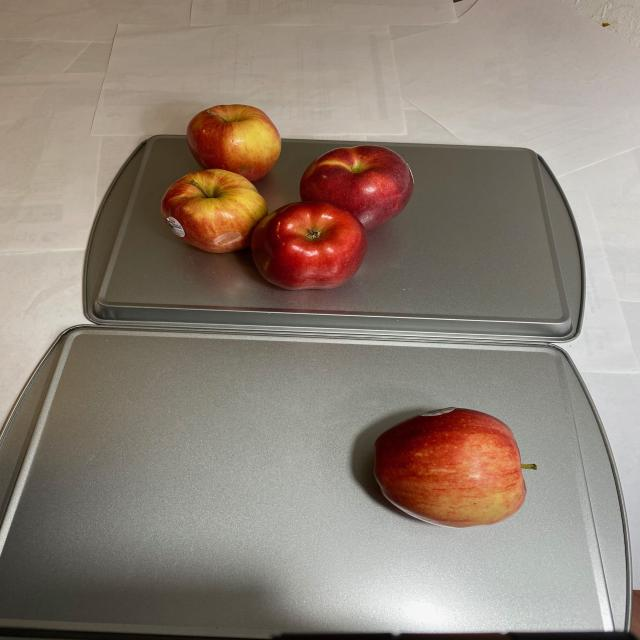apple: (156, 105, 419, 290), (364, 404, 541, 527)
